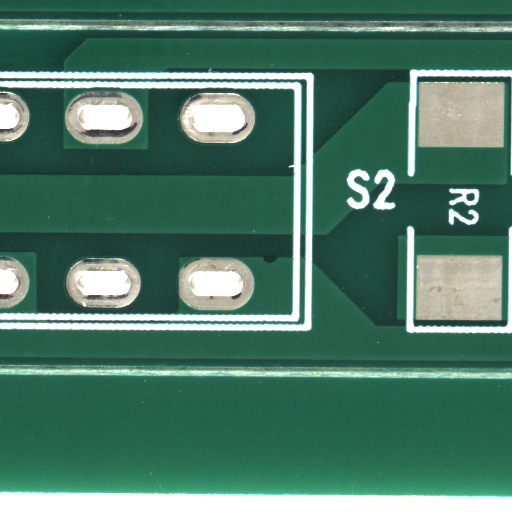Mouse_bite: (269, 258, 284, 267)
